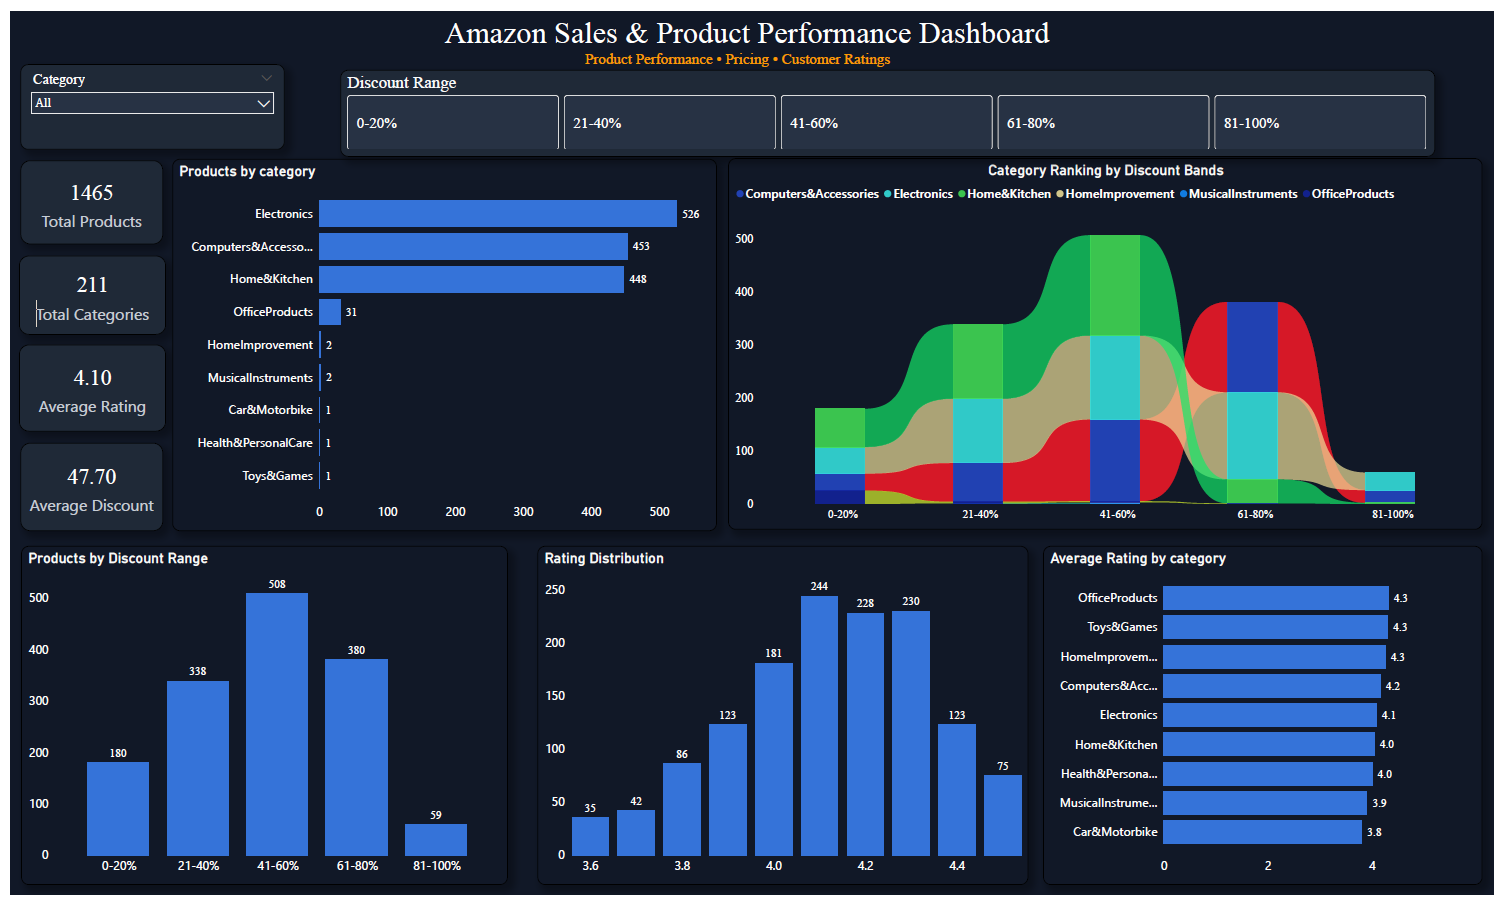

What the dashboard file says about the page in this screenshot:
{"tool":"powerbi","page":{"name":"Page 1","canvas":[2000,1200],"ordinal":0},"visuals":[{"type":"textbox","box":[0,0,1973.5,81.6],"z":0},{"type":"card","fields":{"Values":["amazon amazon_clean.Total Products"]},"box":[14.3,210.2,202,118.4],"z":1000},{"type":"card","fields":{"Values":["amazon amazon_clean.Total Categories"]},"box":[12.2,344.9,208.2,112.2],"z":2000},{"type":"card","fields":{"Values":["amazon amazon_clean.Average Rating"]},"box":[12.2,471.4,208.2,122.4],"z":3000},{"type":"card","fields":{"Values":["amazon amazon_clean.Average Discount"]},"box":[14.3,610.2,202,124.5],"z":4000},{"type":"barChart","title":"Products by category","fields":{"Y":["CountNonNull(amazon amazon_clean.product_id)"],"Category":["amazon amazon_clean.main_category"]},"box":[228.6,208.2,771.4,526.5],"z":6000},{"type":"clusteredColumnChart","title":"Rating Distribution","fields":{"Category":["amazon amazon_clean.rating"],"Y":["CountNonNull(amazon amazon_clean.product_name)"]},"box":[730.6,734.7,695.9,446.9],"z":7000},{"type":"actionButton","box":[0,0,100,40],"z":8000},{"type":"clusteredBarChart","title":"Average Rating by category","fields":{"Category":["amazon amazon_clean.main_category"],"Y":["Avg(amazon amazon_clean.rating)"]},"box":[1442.9,734.7,530.6,446.9],"z":9000},{"type":"clusteredColumnChart","title":"Products by Discount Range","fields":{"Y":["CountNonNull(amazon amazon_clean.product_id)"],"Category":["amazon amazon_clean.Discount Band"]},"box":[14.3,755.1,689.8,426.5],"z":10000},{"type":"ribbonChart","title":"Category Ranking by Discount Bands","fields":{"Category":["amazon amazon_clean.Discount Band"],"Y":["CountNonNull(amazon amazon_clean.product_id)"],"Series":["amazon amazon_clean.main_category"]},"box":[1016.3,208.2,957.1,510.2],"z":11000},{"type":"slicer","fields":{"Values":["amazon amazon_clean.main_category"]},"box":[12.2,73.5,373.5,122.4],"z":12000},{"type":"advancedSlicerVisual","title":"Discount Range","fields":{"Values":["amazon amazon_clean.Discount Band"]},"box":[406.1,73.5,1567.3,122.4],"z":13000}]}

Visuals, with their boxes in screenshot pixels (x1, y1, x2, y2), scaled from the page's 2000x1200 canvas onto the 1502x902 screenshot:
textbox: 0,0,1482,61
card - amazon amazon_clean.Total Products: 11,158,162,247
card - amazon amazon_clean.Total Categories: 9,259,166,344
card - amazon amazon_clean.Average Rating: 9,354,166,446
card - amazon amazon_clean.Average Discount: 11,459,162,552
"Products by category" barChart: 172,156,751,552
"Rating Distribution" clusteredColumnChart: 549,552,1071,888
actionButton: 0,0,75,30
"Average Rating by category" clusteredBarChart: 1084,552,1482,888
"Products by Discount Range" clusteredColumnChart: 11,568,529,888
"Category Ranking by Discount Bands" ribbonChart: 763,156,1482,540
slicer - amazon amazon_clean.main_category: 9,55,290,147
"Discount Range" advancedSlicerVisual: 305,55,1482,147
